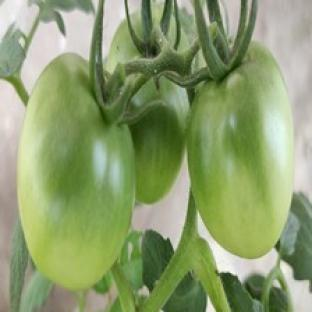Tomato: (19, 53, 135, 289), (187, 44, 293, 257), (130, 78, 189, 203)
